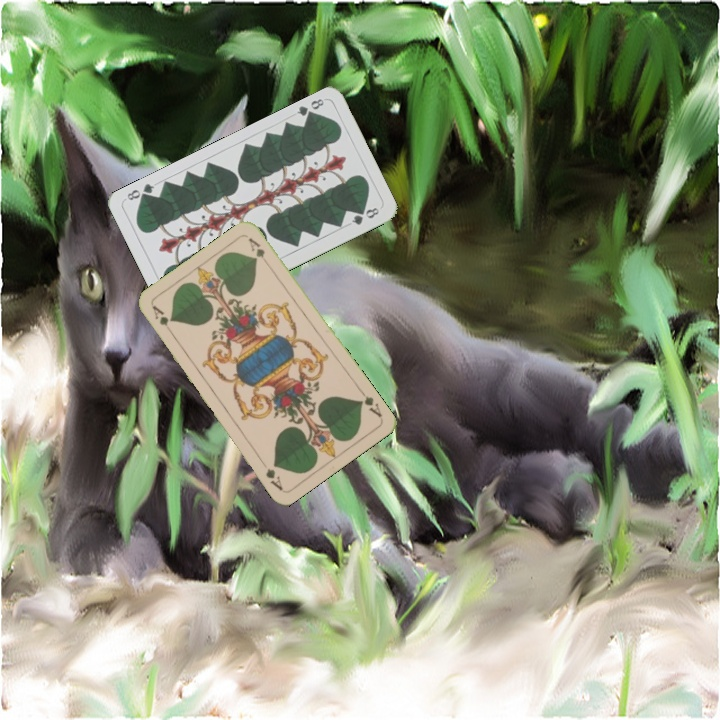G8: (293, 94, 327, 122)
GA: (355, 385, 385, 420), (148, 301, 176, 338)
